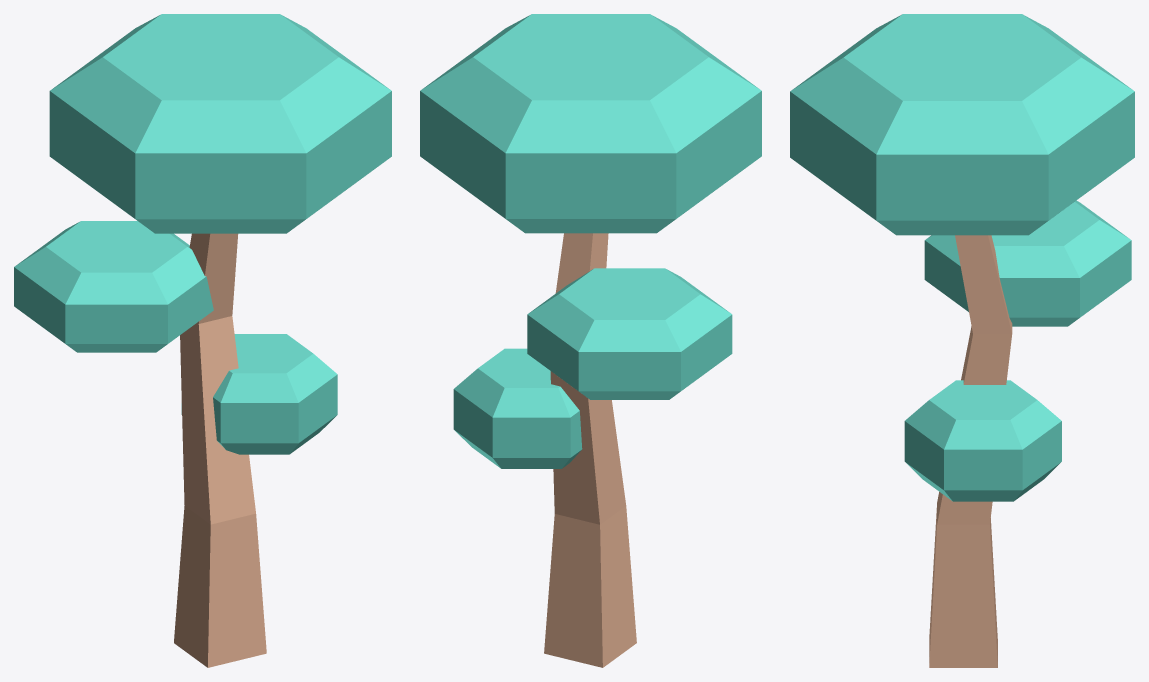
File: tree_plateau.glb
3 views of the same model, side by side, from view 1: azimuth 30°, elevation 25°; view 2: azimuth 150°, elevation 25°; view 3: azimuth 270°, elevation 25° (orthographic).
Parts seen in each view (by area): view 1: tree_plateau; view 2: tree_plateau; view 3: tree_plateau.
Boxes of the visible parts, x1,y1,x2,y2 form: tree_plateau: [14, 14, 391, 667]; tree_plateau: [420, 14, 761, 667]; tree_plateau: [790, 14, 1134, 667].
Bounding box in the file's own units: 0.6117 × 1.25 × 0.6549.
